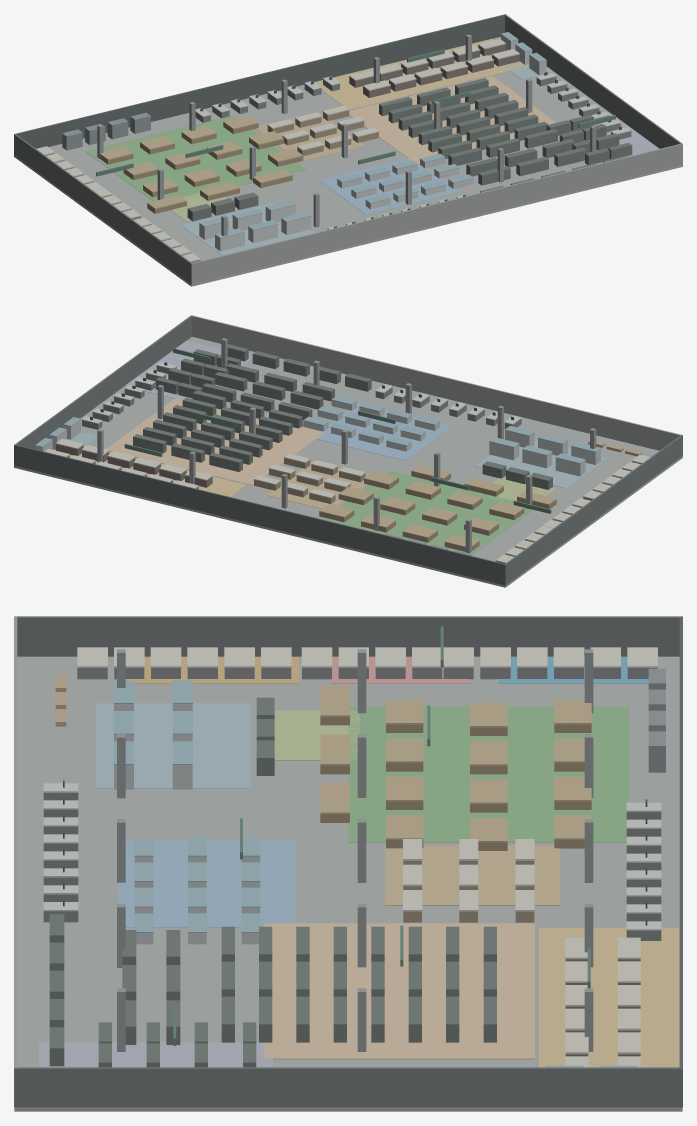
File: yh-large-blockout.glb
3 views of the same model, one above another, from view 1: azimuth 30°, elevation 25°; view 2: azimuth 150°, elevation 25°; view 3: azimuth 270°, elevation 25° (orthographic). The views are drawn at different scales.
Visible parts, largest first — view 1: SHELL__floor_000001, SHELL__frontwall_000003, SHELL__backwall_000002, SHELL__zone-floor-stripe_000009, SHELL__sidewall_000004, SHELL__sidewall_000005, SHELL__zone-floor-stripe_000015, SHELL__zone-floor-stripe_000014, SHELL__zone-floor-stripe_000013, SHELL__zone-floor-stripe_000010, SHELL__zone-floor-stripe_000012, SHELL__zone-floor-stripe_000016 (+6 smaller); view 2: SHELL__floor_000001, SHELL__backwall_000002, SHELL__frontwall_000003, SHELL__zone-floor-stripe_000009, SHELL__sidewall_000004, SHELL__zone-floor-stripe_000015, SHELL__sidewall_000005, SHELL__zone-floor-stripe_000013, SHELL__zone-floor-stripe_000010, SHELL__zone-floor-stripe_000012, SHELL__zone-floor-stripe_000016, SHELL__zone-floor-stripe_000014 (+6 smaller); view 3: SHELL__floor_000001, SHELL__sidewall_000005, SHELL__zone-floor-stripe_000015, SHELL__zone-floor-stripe_000009, SHELL__sidewall_000004, SHELL__zone-floor-stripe_000014, SHELL__zone-floor-stripe_000013, SHELL__zone-floor-stripe_000010, SHELL__zone-floor-stripe_000012, SHELL__zone-floor-stripe_000016, SHELL__zone-floor-stripe_000011, SHELL__frontwall_000003 (+20 smaller).
Part boxes in pixels (left/top/right/bottom): SHELL__floor_000001: left=14, top=36, right=682, bottom=286; SHELL__frontwall_000003: left=191, top=143, right=682, bottom=284; SHELL__backwall_000002: left=14, top=14, right=505, bottom=148; SHELL__zone-floor-stripe_000009: left=85, top=115, right=306, bottom=201; SHELL__sidewall_000004: left=14, top=134, right=192, bottom=283; SHELL__sidewall_000005: left=505, top=15, right=681, bottom=148; SHELL__zone-floor-stripe_000015: left=349, top=76, right=555, bottom=164; SHELL__zone-floor-stripe_000014: left=315, top=38, right=527, bottom=109; SHELL__zone-floor-stripe_000013: left=319, top=158, right=460, bottom=214; SHELL__zone-floor-stripe_000010: left=181, top=203, right=313, bottom=255; SHELL__zone-floor-stripe_000012: left=255, top=112, right=364, bottom=161; SHELL__zone-floor-stripe_000016: left=558, top=114, right=659, bottom=164; SHELL__floor_000001: left=14, top=337, right=682, bottom=587; SHELL__backwall_000002: left=14, top=444, right=505, bottom=585; SHELL__frontwall_000003: left=191, top=315, right=682, bottom=450; SHELL__zone-floor-stripe_000009: left=323, top=470, right=532, bottom=555; SHELL__sidewall_000004: left=505, top=435, right=682, bottom=584; SHELL__zone-floor-stripe_000015: left=106, top=397, right=324, bottom=485; SHELL__sidewall_000005: left=15, top=315, right=191, bottom=449; SHELL__zone-floor-stripe_000013: left=313, top=403, right=452, bottom=460; SHELL__zone-floor-stripe_000010: left=475, top=440, right=607, bottom=488; SHELL__zone-floor-stripe_000012: left=266, top=461, right=368, bottom=508; SHELL__zone-floor-stripe_000016: left=124, top=340, right=252, bottom=399; SHELL__zone-floor-stripe_000014: left=54, top=445, right=246, bottom=496; SHELL__floor_000001: left=14, top=656, right=682, bottom=1111; SHELL__sidewall_000005: left=14, top=1067, right=682, bottom=1107; SHELL__zone-floor-stripe_000015: left=263, top=923, right=534, bottom=1059; SHELL__zone-floor-stripe_000009: left=348, top=706, right=629, bottom=842; SHELL__sidewall_000004: left=14, top=616, right=682, bottom=656; SHELL__zone-floor-stripe_000014: left=539, top=927, right=679, bottom=1067; SHELL__zone-floor-stripe_000013: left=118, top=840, right=295, bottom=927; SHELL__zone-floor-stripe_000010: left=96, top=703, right=250, bottom=788; SHELL__zone-floor-stripe_000012: left=385, top=845, right=560, bottom=905; SHELL__zone-floor-stripe_000016: left=39, top=1042, right=272, bottom=1067; SHELL__zone-floor-stripe_000011: left=274, top=710, right=359, bottom=760; SHELL__frontwall_000003: left=14, top=616, right=17, bottom=1106.
Bounding box in the file's own units: 80.05 × 5.36 × 50.05.
